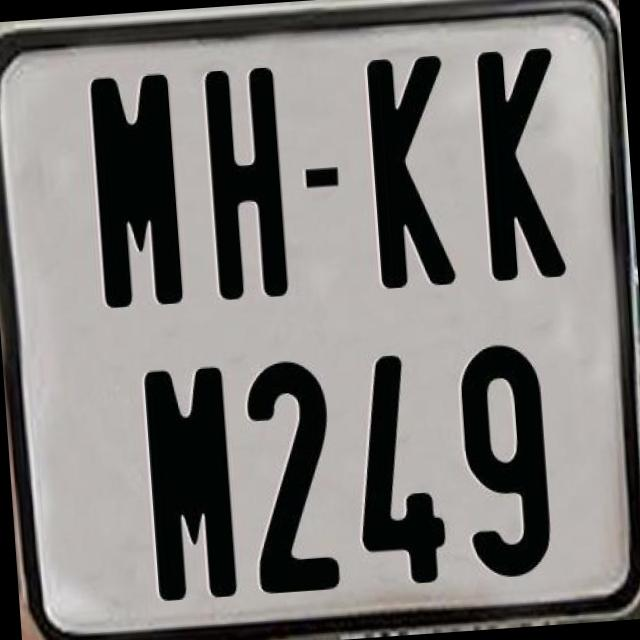2: (244, 358, 343, 600)
4: (347, 351, 453, 588)
9: (452, 342, 552, 587)
H: (203, 64, 290, 298)
K: (362, 54, 456, 298), (476, 44, 567, 278)
M: (141, 362, 244, 607), (85, 70, 183, 310)
